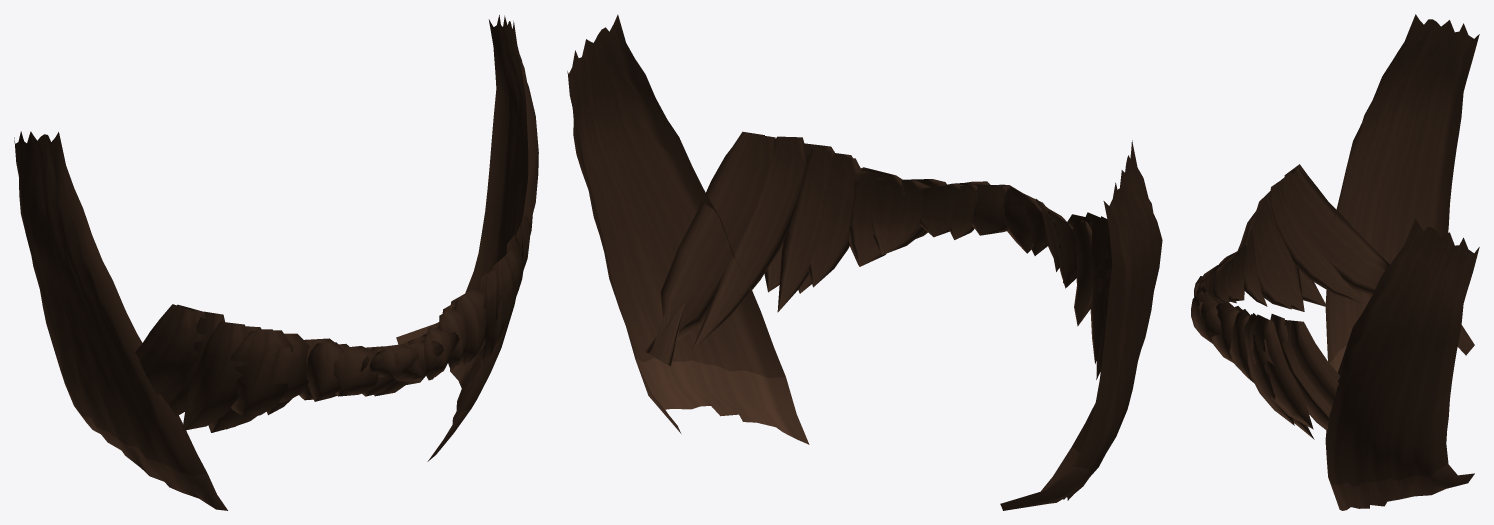
File: vincentt-friendly-mutton-chops.glb
3 views of the same model, side by side, from view 1: azimuth 30°, elevation 25°; view 2: azimuth 150°, elevation 25°; view 3: azimuth 270°, elevation 25° (orthographic). The views are drawn at different scales.
Parts seen in each view (by area): view 1: friendly_mutton_chops_clumps, friendly_mutton_chops_mus_clumps; view 2: friendly_mutton_chops_clumps, friendly_mutton_chops_mus_clumps; view 3: friendly_mutton_chops_clumps, friendly_mutton_chops_mus_clumps.
Part boxes in pixels (x1,y1,x2,y2): friendly_mutton_chops_clumps: [14, 15, 538, 510]; friendly_mutton_chops_mus_clumps: [135, 215, 530, 432]; friendly_mutton_chops_clumps: [567, 14, 1162, 510]; friendly_mutton_chops_mus_clumps: [644, 131, 1112, 379]; friendly_mutton_chops_clumps: [1325, 14, 1479, 510]; friendly_mutton_chops_mus_clumps: [1191, 164, 1389, 439].
Size of what is drawn, in the model's own units: 0.1563 by 0.1158 by 0.0867.
2 materials, 2 textured.
